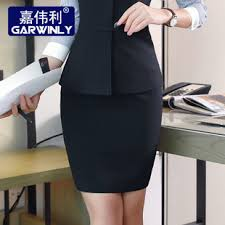F_tailored skirt: (53, 65, 173, 203)
